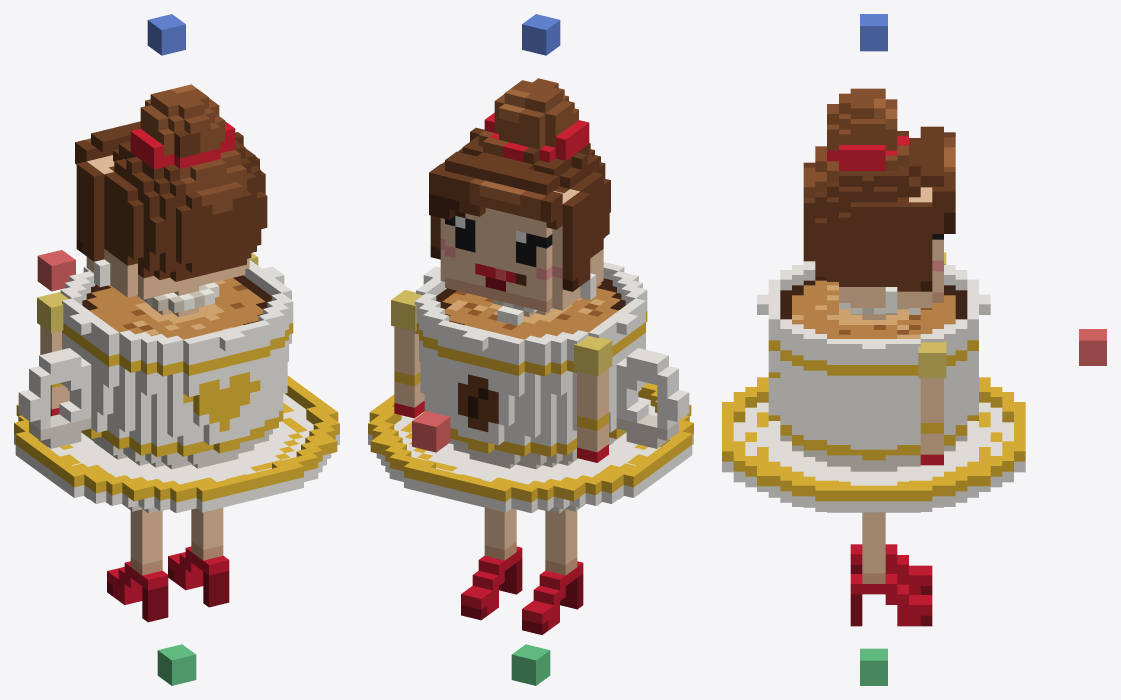
File: EspressoSignora.glb
The picture shows the model from 3 angles, left to right: view 1: azimuth 30°, elevation 25°; view 2: azimuth 150°, elevation 25°; view 3: azimuth 270°, elevation 25°; orthographic projection.
Parts seen in each view (by area): view 1: EspressoSignora_Body, EspressoSignora_Head5, EspressoSignora_Leg2, EspressoSignora_Leg1, EspressoSignora_Built, EspressoSignora_Top, EspressoSignora_Front, EspressoSignora_Pivot4, EspressoSignora_Arm4; view 2: EspressoSignora_Body, EspressoSignora_Head5, EspressoSignora_Leg2, EspressoSignora_Leg1, EspressoSignora_Arm4, EspressoSignora_Arm3, EspressoSignora_Built, EspressoSignora_Top, EspressoSignora_Front, EspressoSignora_Pivot4, EspressoSignora_Pivot3; view 3: EspressoSignora_Body, EspressoSignora_Head5, EspressoSignora_Leg1, EspressoSignora_Arm3, EspressoSignora_Leg2, EspressoSignora_Pivot3, EspressoSignora_Top, EspressoSignora_Built, EspressoSignora_Front.
Part boxes in pixels (left/top/right/bottom): EspressoSignora_Body: left=14, top=260, right=339, bottom=513; EspressoSignora_Head5: left=75, top=84, right=267, bottom=299; EspressoSignora_Leg2: left=107, top=509, right=168, bottom=622; EspressoSignora_Leg1: left=168, top=507, right=229, bottom=607; EspressoSignora_Built: left=157, top=644, right=196, bottom=685; EspressoSignora_Top: left=147, top=14, right=185, bottom=55; EspressoSignora_Front: left=37, top=250, right=75, bottom=291; EspressoSignora_Pivot4: left=37, top=291, right=68, bottom=333; EspressoSignora_Arm4: left=40, top=325, right=69, bottom=416; EspressoSignora_Body: left=368, top=262, right=693, bottom=513; EspressoSignora_Head5: left=429, top=78, right=610, bottom=312; EspressoSignora_Leg2: left=522, top=509, right=583, bottom=634; EspressoSignora_Leg1: left=461, top=507, right=522, bottom=620; EspressoSignora_Arm4: left=577, top=368, right=608, bottom=462; EspressoSignora_Arm3: left=394, top=326, right=424, bottom=418; EspressoSignora_Built: left=511, top=644, right=550, bottom=685; EspressoSignora_Top: left=522, top=14, right=560, bottom=55; EspressoSignora_Front: left=412, top=411, right=450, bottom=452; EspressoSignora_Pivot4: left=574, top=336, right=612, bottom=375; EspressoSignora_Pivot3: left=391, top=290, right=422, bottom=331; EspressoSignora_Body: left=722, top=261, right=1025, bottom=512; EspressoSignora_Head5: left=803, top=88, right=955, bottom=312; EspressoSignora_Leg1: left=850, top=512, right=932, bottom=626; EspressoSignora_Arm3: left=920, top=378, right=943, bottom=465; EspressoSignora_Leg2: left=850, top=544, right=932, bottom=594; EspressoSignora_Pivot3: left=918, top=341, right=946, bottom=378; EspressoSignora_Top: left=860, top=14, right=887, bottom=51; EspressoSignora_Built: left=860, top=648, right=887, bottom=685; EspressoSignora_Front: left=1079, top=329, right=1106, bottom=365.
Bounding box in the file's own units: 2.92 × 6.45 × 3.43.
1 material, 1 textured.
